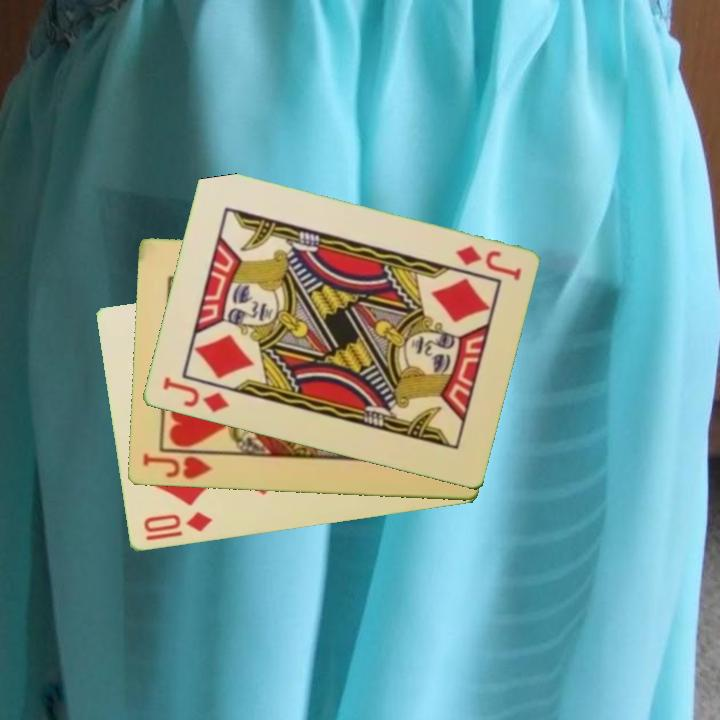10d: (140, 508, 215, 544)
Jd: (451, 242, 524, 285), (159, 374, 232, 416)
Jh: (139, 450, 215, 482)
